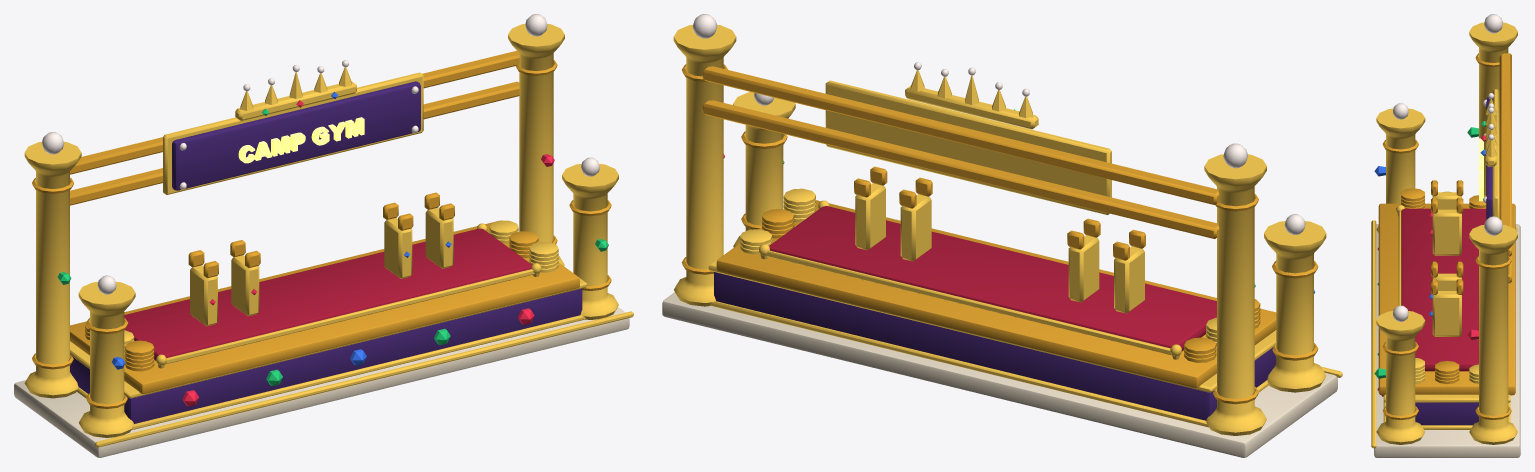
The model's file is st_06_golden.glb.
3 views of the same model, side by side, from view 1: azimuth 30°, elevation 25°; view 2: azimuth 150°, elevation 25°; view 3: azimuth 270°, elevation 25° (orthographic). The views are drawn at different scales.
Visible parts, largest first — view 1: st_06_golden; view 2: st_06_golden; view 3: st_06_golden.
Boxes of the visible parts, x1,y1,x2,y2 form: st_06_golden: (14, 14, 633, 457); st_06_golden: (662, 14, 1342, 457); st_06_golden: (1371, 14, 1520, 457).
Bounding box in the file's own units: 10.9 × 5.42 × 3.05.
